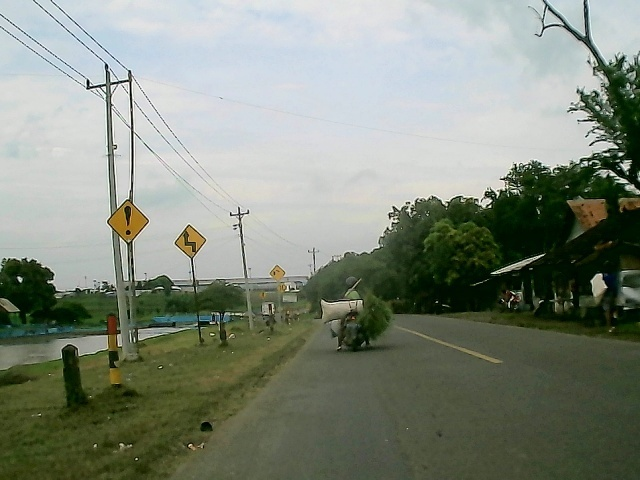Hati-hati: (105, 198, 152, 244)
Peringatan tepi air: (269, 263, 286, 281)
Tikungan garda pertama kiri: (173, 223, 206, 259)
